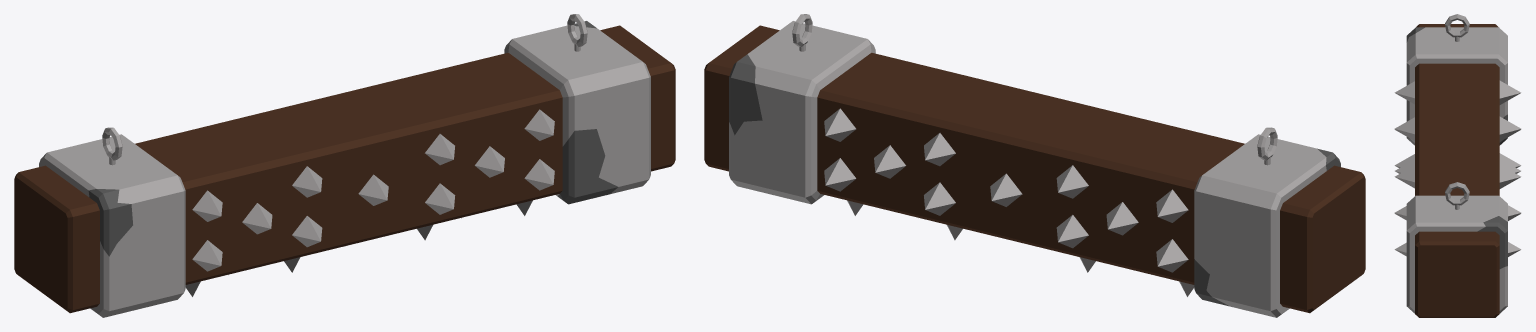
File: SwingingBeam_Wooden.fbx
3 views of the same model, side by side, from view 1: azimuth 30°, elevation 25°; view 2: azimuth 150°, elevation 25°; view 3: azimuth 270°, elevation 25° (orthographic). The views are drawn at different scales.
Parts seen in each view (by area): view 1: SwingingBeam_Wooden; view 2: SwingingBeam_Wooden; view 3: SwingingBeam_Wooden.
Boxes of the visible parts, box(x1,y1,x2,y2) form: SwingingBeam_Wooden: box(14, 14, 675, 317); SwingingBeam_Wooden: box(704, 14, 1365, 317); SwingingBeam_Wooden: box(1394, 14, 1521, 317).
Bounding box in the file's own units: 366 × 101 × 89.61.
